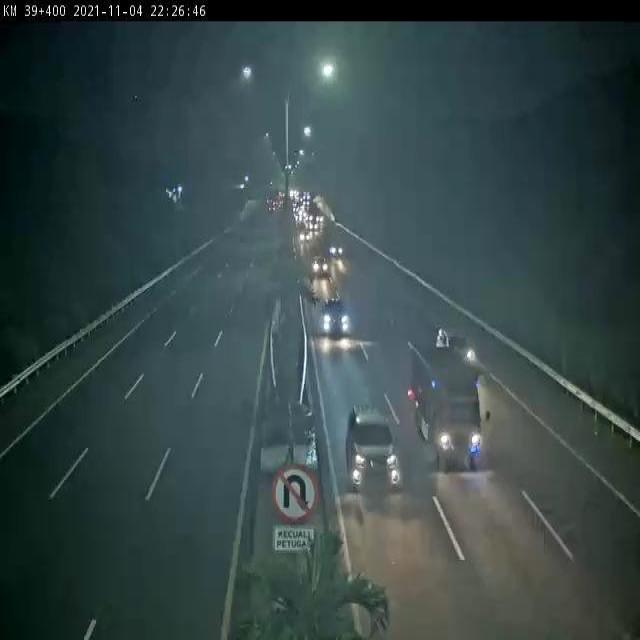ARABA: (347, 405, 402, 492), (320, 295, 349, 337)
KAMYONET: (403, 326, 496, 471)
